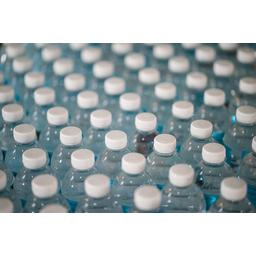plastic: (116, 150, 157, 212), (19, 170, 66, 213), (72, 171, 119, 212), (47, 127, 88, 172), (95, 132, 128, 177), (127, 177, 164, 212)
